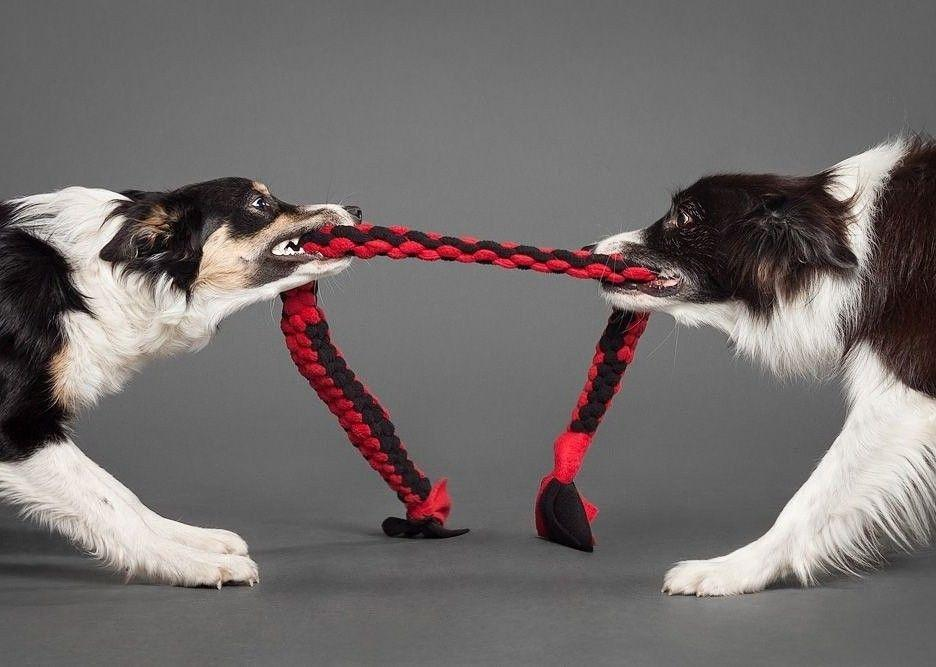adult_dog: (588, 131, 936, 597), (0, 176, 364, 587)
